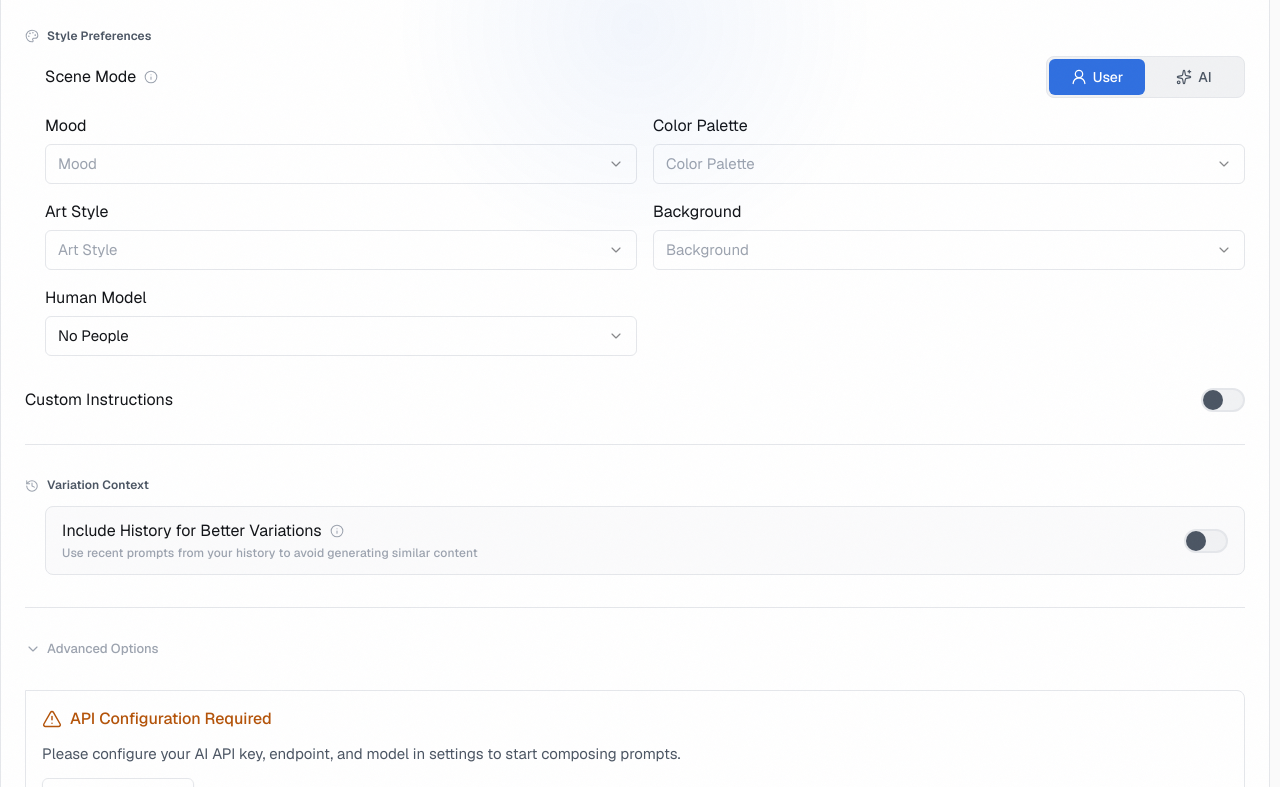
GeneratorForm UX & Controls › renders Custom Instructions with maxLength=500 and bounded resize classes when enabled
(page scrolled)
Step 1. Click the switch with id "customInstructions-toggle" → (1223, 400), box x1=1201 y1=388 x2=1245 y2=412
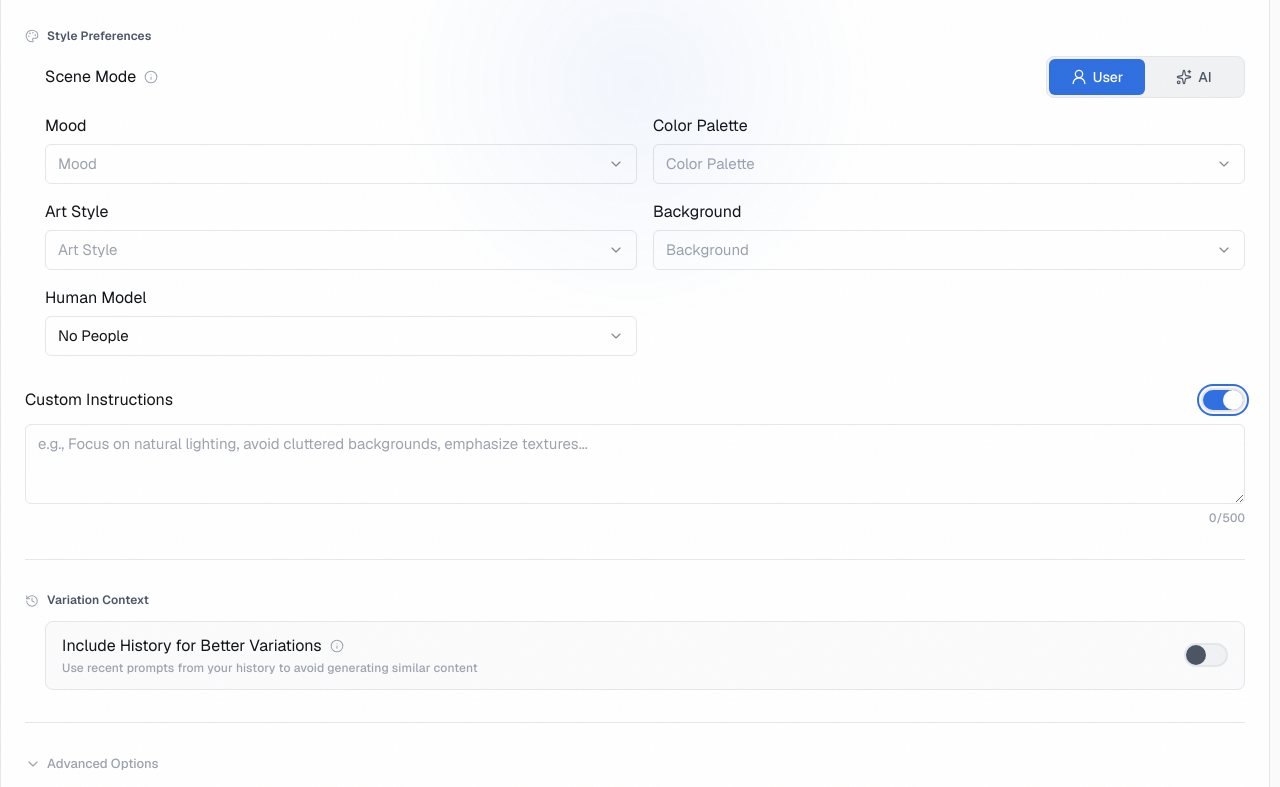
Expected: the text box with placeholder "e.g., Focus on natural lighting, avoid cluttered backgrounds, emphasize textures..." is shown, x1=25 y1=424 x2=1245 y2=504
Expected: the text "0/500" is shown, x1=1209 y1=510 x2=1245 y2=527
